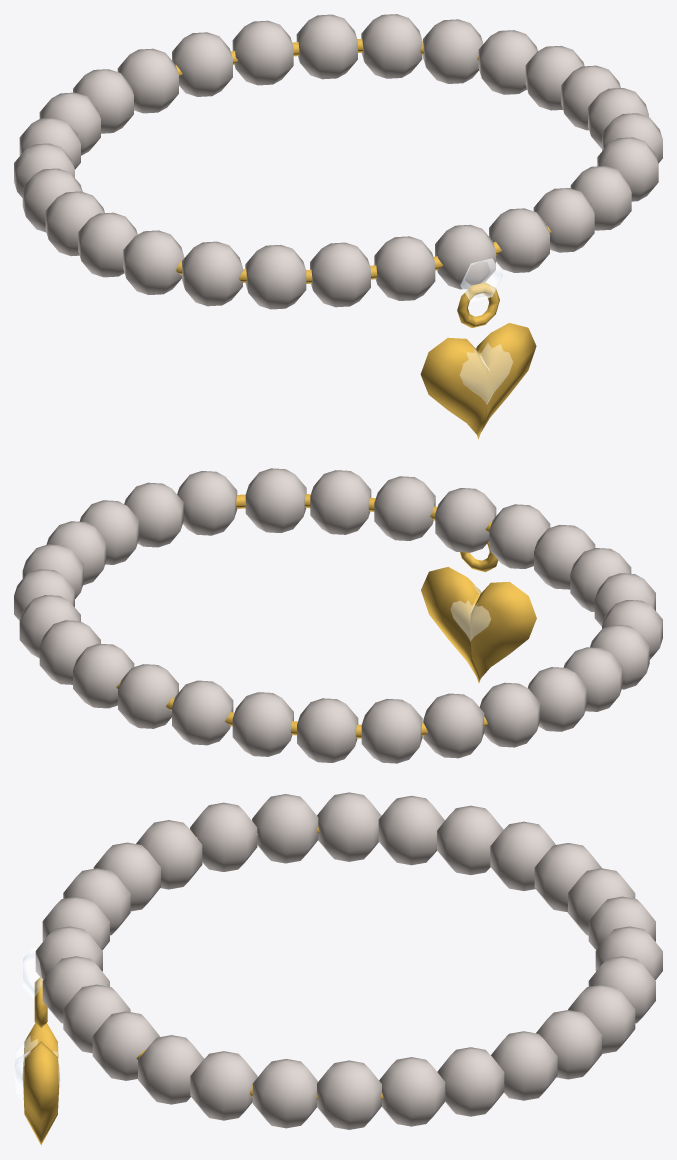
The model's file is pearl_choker.glb.
3 renders of one model, top to bottom at view 1: azimuth 30°, elevation 25°; view 2: azimuth 150°, elevation 25°; view 3: azimuth 270°, elevation 25°, orthographic. The views are drawn at different scales.
Visible parts, largest first — view 1: pearl_choker; view 2: pearl_choker; view 3: pearl_choker.
Boxes of the visible parts, x1=… form: pearl_choker: x1=14, y1=14, x2=662, y2=439; pearl_choker: x1=14, y1=468, x2=662, y2=763; pearl_choker: x1=14, y1=792, x2=662, y2=1145.
Size of the model in its own units: 0.0852 by 0.0291 by 0.0788.
